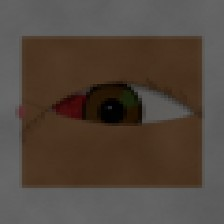hemorrhage_spot: (39, 67, 138, 147)
